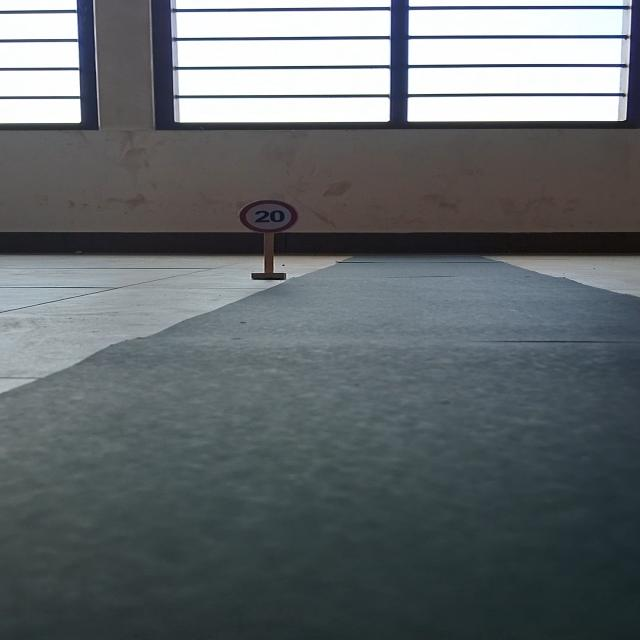Speed20: (233, 194, 304, 237)
